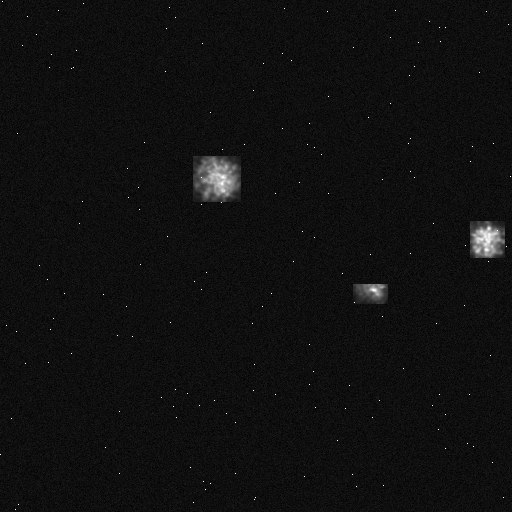lam1: (193, 156, 240, 201), (470, 221, 504, 257), (353, 284, 387, 303)
